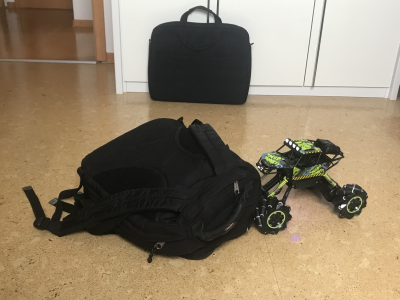remote control car: (245, 135, 370, 237)
